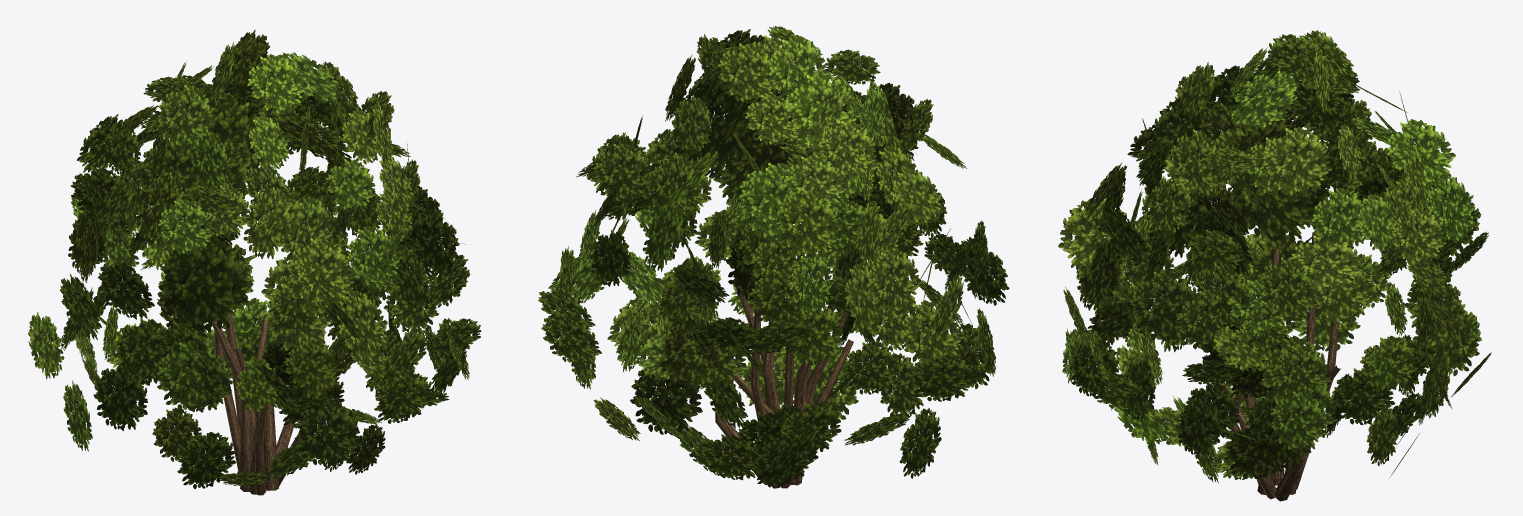
Rendered from mm8_deco_plant32.glb.
3 renders of one model, left to right at view 1: azimuth 30°, elevation 25°; view 2: azimuth 150°, elevation 25°; view 3: azimuth 270°, elevation 25°, orthographic. The views are drawn at different scales.
Parts seen in each view (by area): view 1: Plant; view 2: Plant; view 3: Plant.
Part boxes in pixels (x1,y1,x2,y2): Plant: (28, 30, 481, 495); Plant: (538, 26, 1009, 488); Plant: (1058, 30, 1491, 501).
Size of the model in its own units: 2.17 by 2.12 by 1.94.
2 materials, 2 textured.
